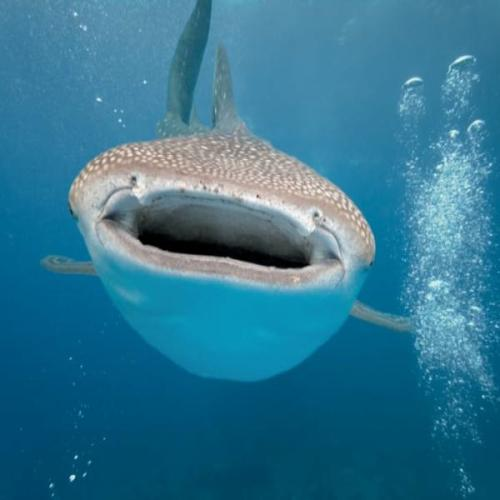shark-endangered: (38, 0, 417, 386)
